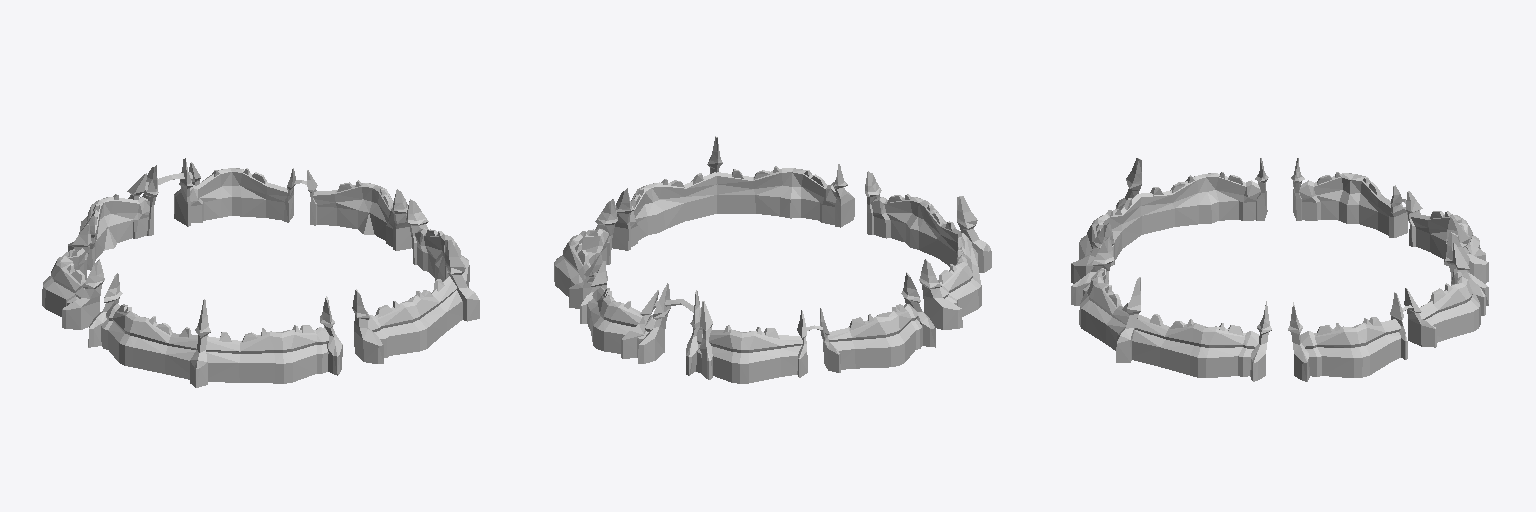
The model's file is citywalls_metal.obj.
3 renders of one model, left to right at view 1: azimuth 30°, elevation 25°; view 2: azimuth 150°, elevation 25°; view 3: azimuth 270°, elevation 25°, orthographic.
Parts seen in each view (by area): view 1: ci_castle_citywalls_large_COPY; view 2: ci_castle_citywalls_large_COPY; view 3: ci_castle_citywalls_large_COPY.
Boxes of the visible parts, box(x1,y1,x2,y2) form: ci_castle_citywalls_large_COPY: box(42, 158, 479, 387); ci_castle_citywalls_large_COPY: box(554, 136, 991, 383); ci_castle_citywalls_large_COPY: box(1071, 158, 1488, 381).
Size of the model in its own units: 128 by 25.33 by 128.